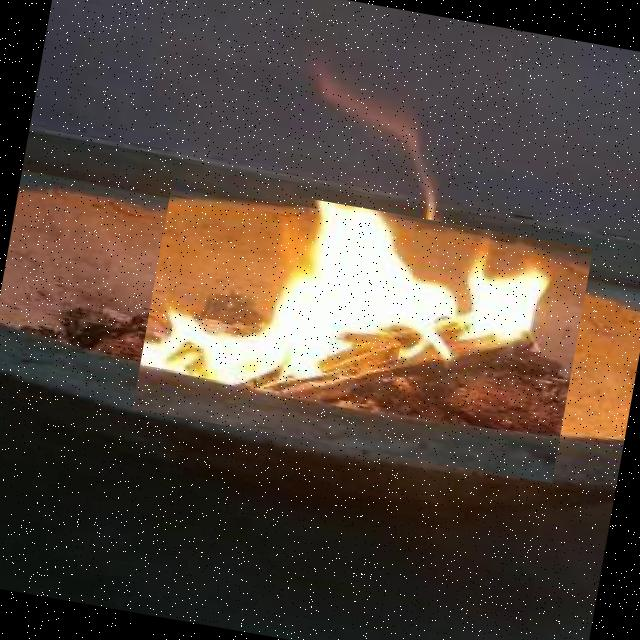fire: (132, 175, 592, 482)
